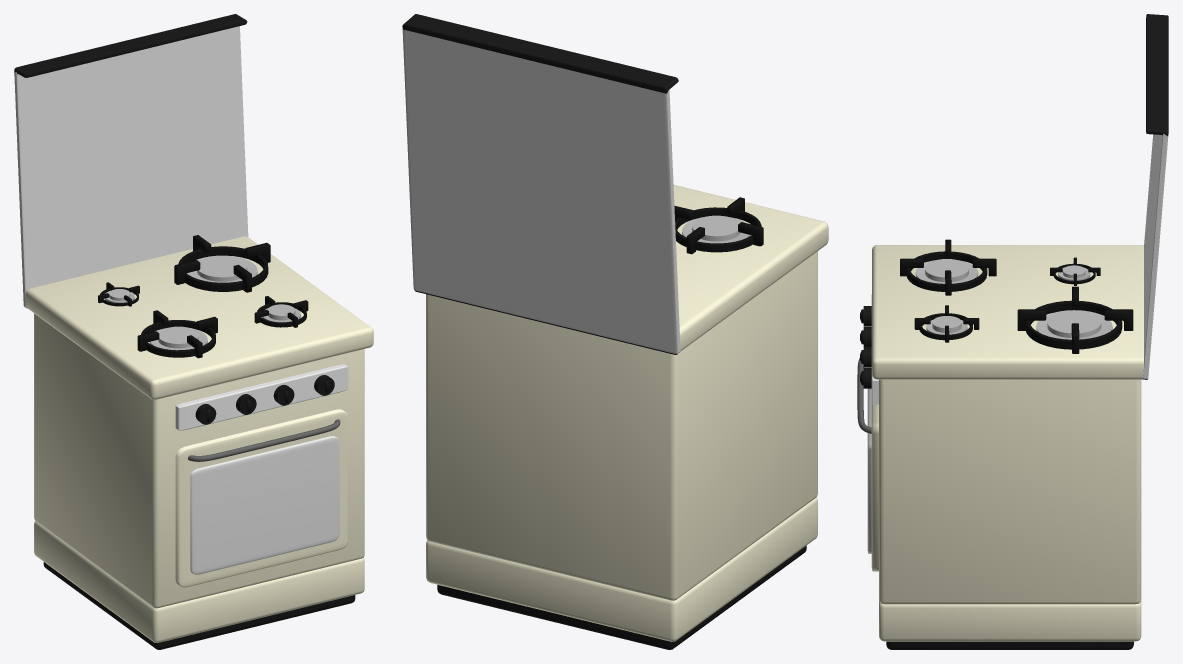
Rendered from Oven.fbx.
3 views of the same model, side by side, from view 1: azimuth 30°, elevation 25°; view 2: azimuth 150°, elevation 25°; view 3: azimuth 270°, elevation 25° (orthographic). The views are drawn at different scales.
Visible parts, largest first — view 1: Cube.026, Cube, Cube.002, Cube.005, Cube.001, Cube.003, Cube.004, Circle.007, Circle.003, Circle.005, NurbsPath, Circle.001; view 2: Cube, Cube.026, Cube.001, Cube.002, Circle.005, Circle.001; view 3: Cube, Cube.002, Cube.001, Cube.026, Circle.007, Circle.003, Cube.003, Circle.005, Circle.001, Cube.005, Circle.002, Circle.006 (+2 smaller).
Boxes of the visible parts, x1,y1,x2,y2 form: Cube.026: (14, 14, 248, 308); Cube: (34, 313, 364, 608); Cube.002: (25, 236, 373, 399); Cube.005: (190, 436, 339, 574); Cube.001: (34, 521, 364, 649); Cube.003: (175, 409, 348, 587); Cube.004: (175, 364, 348, 430); Circle.007: (178, 246, 268, 291); Circle.003: (187, 255, 257, 282); Circle.005: (141, 320, 215, 357); NurbsPath: (188, 419, 340, 461); Circle.001: (149, 326, 207, 350); Cube: (426, 251, 817, 600); Cube.026: (402, 14, 680, 354); Cube.001: (426, 497, 817, 649); Cube.002: (673, 185, 828, 351); Circle.005: (675, 207, 761, 252); Circle.001: (682, 215, 750, 243); Cube: (879, 379, 1141, 604); Cube.002: (872, 245, 1143, 379); Cube.001: (879, 600, 1141, 649); Cube.026: (1143, 14, 1168, 379); Circle.007: (1025, 300, 1122, 349); Circle.003: (1036, 310, 1112, 339); Cube.003: (871, 403, 878, 571); Circle.005: (906, 251, 987, 291); Circle.001: (915, 259, 978, 283); Cube.005: (867, 388, 871, 553); Circle.002: (926, 316, 967, 334); Circle.006: (919, 313, 972, 340).
Bounding box in the file's own units: 211 × 444 × 237.
